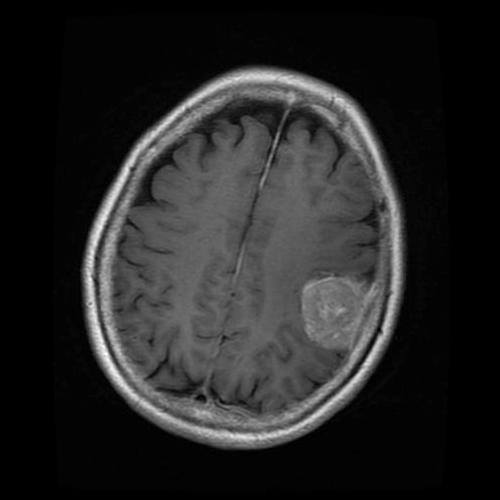Tumour-Meningioma: (279, 256, 384, 368)
